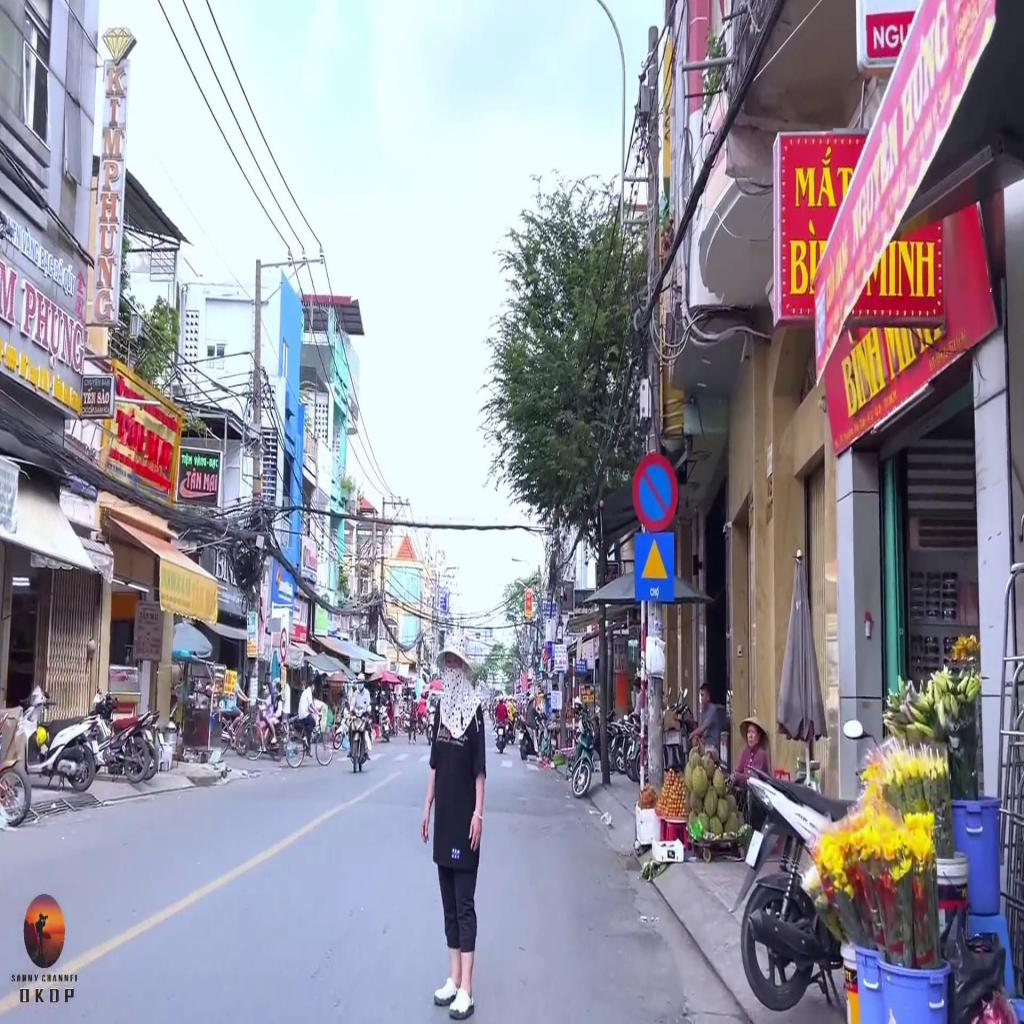cam_do_xe: (632, 454, 678, 533)
cam_o_to_tai: (280, 628, 287, 660)
cho: (634, 533, 674, 603)
